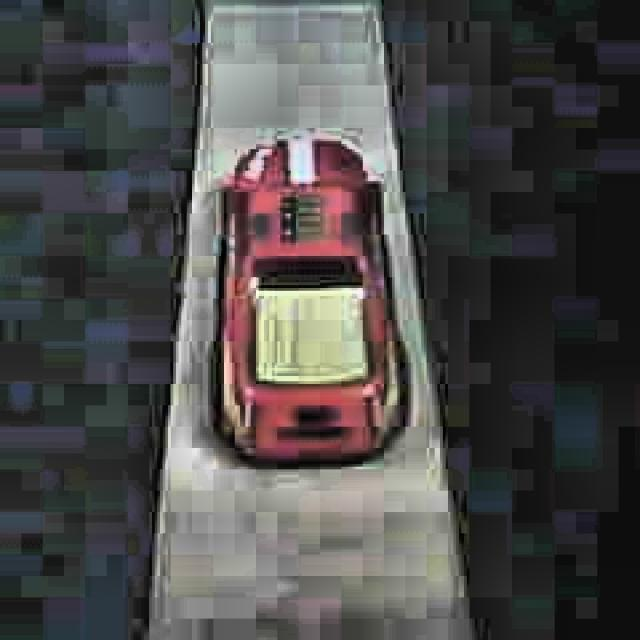car: (207, 134, 415, 471)
